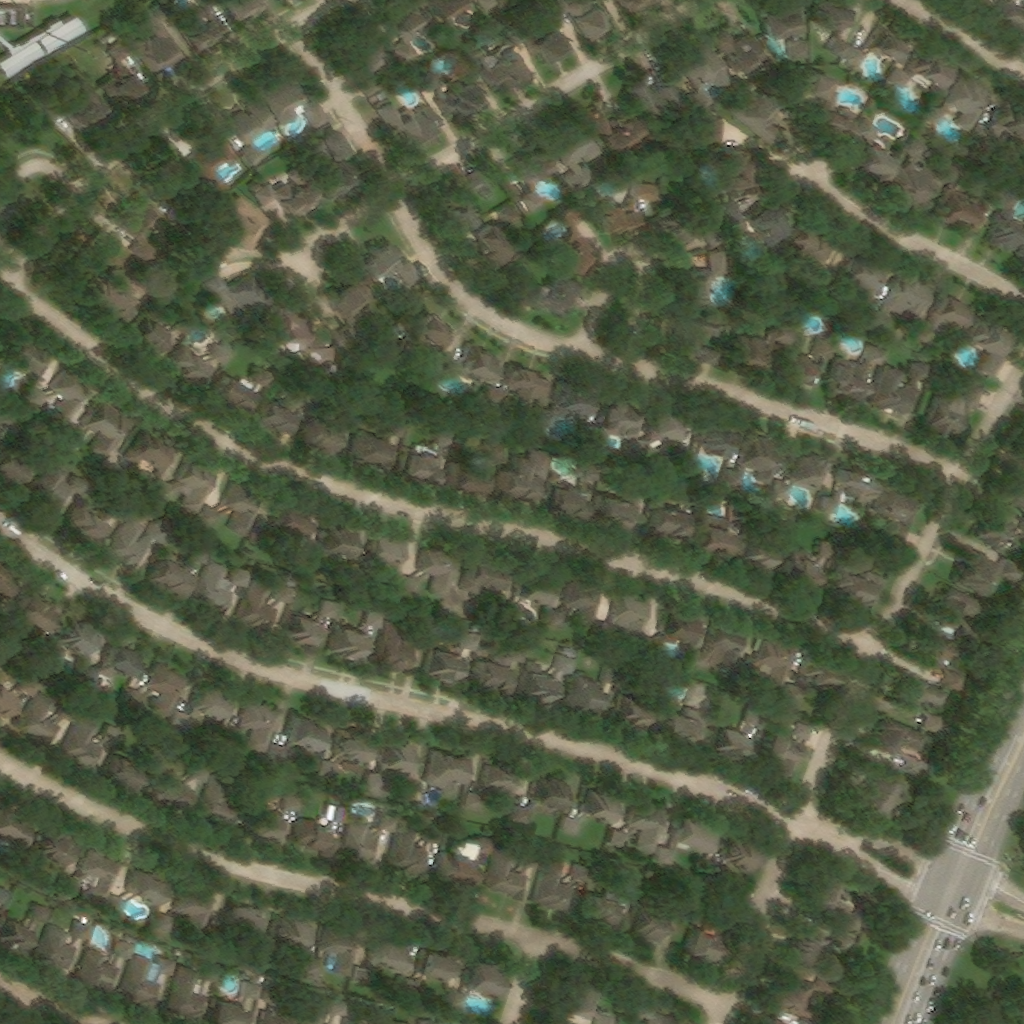no_damage: (0, 13, 86, 79), (887, 138, 965, 210), (206, 195, 277, 266), (61, 397, 137, 462), (199, 483, 280, 542), (261, 75, 340, 132), (152, 458, 225, 517), (810, 869, 872, 937), (382, 307, 460, 361), (356, 240, 436, 292), (249, 169, 326, 221), (439, 165, 496, 234), (834, 545, 896, 608), (654, 206, 729, 258), (123, 660, 190, 718), (675, 41, 730, 111), (28, 464, 93, 523), (106, 518, 172, 576), (924, 74, 990, 132), (867, 272, 933, 330), (190, 125, 243, 196), (914, 290, 979, 347), (607, 800, 672, 857), (801, 68, 857, 134), (552, 120, 607, 187), (874, 718, 935, 778), (579, 393, 643, 450), (631, 403, 690, 463), (297, 521, 363, 574), (680, 249, 733, 315), (61, 846, 124, 901), (512, 268, 581, 318), (790, 222, 836, 297), (305, 925, 363, 984), (78, 639, 144, 690), (449, 954, 507, 1012), (36, 917, 95, 974), (459, 42, 522, 95), (743, 516, 796, 579), (841, 27, 912, 74), (513, 141, 558, 215), (780, 661, 840, 716), (111, 191, 158, 261), (968, 314, 1017, 381), (77, 938, 140, 990), (43, 76, 107, 127), (727, 195, 792, 245), (402, 548, 461, 603), (270, 711, 329, 766), (70, 500, 134, 550), (344, 816, 401, 872), (599, 183, 659, 236), (874, 479, 920, 548), (534, 862, 595, 914), (134, 5, 184, 68), (765, 972, 828, 1022), (253, 914, 317, 963), (660, 814, 718, 868), (856, 768, 910, 826), (547, 581, 606, 634), (731, 432, 784, 491), (151, 544, 212, 595), (222, 704, 283, 755), (630, 893, 691, 944), (239, 578, 294, 634), (449, 442, 506, 496), (427, 629, 484, 683), (401, 947, 458, 1001), (775, 449, 833, 502), (820, 466, 878, 519), (283, 600, 342, 652), (110, 863, 169, 915), (563, 789, 623, 840), (690, 622, 751, 672), (353, 933, 409, 987), (488, 844, 545, 897), (556, 207, 599, 277), (156, 888, 220, 935), (464, 766, 525, 815), (439, 341, 501, 389), (671, 313, 725, 368), (833, 346, 889, 399), (537, 379, 594, 431), (929, 382, 987, 433), (872, 366, 931, 416), (23, 695, 82, 745), (728, 86, 778, 145), (215, 367, 279, 413), (205, 272, 275, 314), (710, 28, 770, 77), (370, 739, 419, 799), (515, 775, 571, 826), (2, 591, 61, 639), (507, 24, 571, 68), (40, 371, 94, 423), (122, 955, 176, 1007), (889, 49, 954, 92), (83, 273, 140, 322), (294, 806, 352, 854), (168, 965, 220, 1018), (333, 610, 387, 661), (559, 975, 616, 1023), (197, 560, 251, 610), (582, 879, 642, 924), (756, 640, 805, 695), (0, 904, 55, 953), (0, 438, 58, 484), (133, 313, 197, 354), (779, 340, 837, 385), (785, 541, 838, 590), (985, 184, 1022, 254), (171, 343, 237, 382), (498, 451, 555, 496), (390, 0, 429, 65), (737, 319, 792, 365), (401, 431, 457, 476), (764, 722, 817, 769), (393, 827, 443, 876), (426, 751, 474, 802), (352, 419, 410, 461), (352, 37, 390, 101), (227, 99, 277, 147), (68, 717, 118, 765), (111, 746, 168, 788), (549, 0, 608, 40), (438, 838, 495, 879), (248, 795, 304, 836), (129, 427, 180, 472), (713, 711, 765, 755), (846, 253, 889, 306), (954, 546, 997, 599), (586, 107, 644, 146), (471, 219, 517, 268), (575, 666, 627, 709), (896, 674, 948, 717), (855, 119, 893, 177), (789, 920, 832, 971), (525, 654, 577, 696), (461, 553, 508, 599), (975, 509, 1022, 555), (656, 609, 704, 654), (211, 984, 266, 1023), (620, 678, 672, 719), (0, 675, 44, 723), (326, 277, 377, 318), (474, 645, 529, 683), (692, 419, 738, 462), (918, 630, 961, 676), (157, 763, 213, 798), (6, 330, 50, 374), (503, 361, 548, 403), (257, 397, 303, 438), (383, 621, 418, 674), (303, 416, 347, 457), (192, 682, 236, 723), (596, 492, 641, 532), (184, 0, 221, 48), (59, 617, 102, 658), (722, 831, 766, 871), (337, 729, 375, 775), (935, 189, 982, 226), (570, 465, 604, 516), (611, 594, 653, 634), (694, 516, 736, 556), (433, 0, 472, 42), (36, 827, 78, 866), (938, 586, 975, 630), (149, 158, 187, 200), (516, 569, 558, 607), (761, 0, 803, 38), (314, 123, 357, 160), (405, 111, 444, 151), (318, 160, 356, 201), (650, 500, 693, 536), (686, 917, 724, 957), (102, 67, 143, 104), (276, 304, 313, 344), (373, 536, 408, 577), (662, 703, 702, 738), (622, 79, 662, 113), (264, 987, 301, 1023), (227, 900, 266, 934), (203, 774, 231, 817), (992, 100, 1022, 139), (723, 149, 753, 188), (278, 504, 314, 534), (811, 1, 851, 28), (999, 462, 1022, 507), (0, 806, 31, 839), (635, 1000, 676, 1023), (451, 79, 480, 106), (827, 32, 854, 61), (615, 0, 653, 17), (376, 101, 400, 127), (418, 71, 443, 95), (106, 40, 132, 63), (999, 0, 1022, 26), (790, 34, 811, 62), (656, 80, 680, 104), (501, 202, 524, 227), (326, 1000, 351, 1023), (303, 1001, 326, 1023), (923, 713, 945, 736), (246, 143, 266, 168), (437, 98, 459, 120), (342, 406, 364, 428), (944, 669, 964, 691), (706, 121, 725, 144), (549, 484, 571, 503), (685, 490, 705, 508), (400, 107, 416, 128), (759, 1012, 789, 1023), (0, 886, 13, 906), (0, 565, 10, 587), (375, 1011, 393, 1023), (224, 0, 246, 8), (283, 577, 296, 588), (551, 474, 564, 483)
